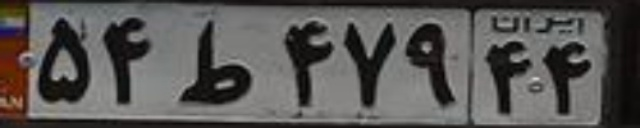4: (100, 18, 156, 104), (280, 20, 333, 108), (537, 40, 594, 115), (482, 40, 530, 115)
5: (37, 19, 93, 103)
7: (342, 17, 392, 106)
9: (400, 22, 461, 108)
taa: (177, 21, 254, 106)
